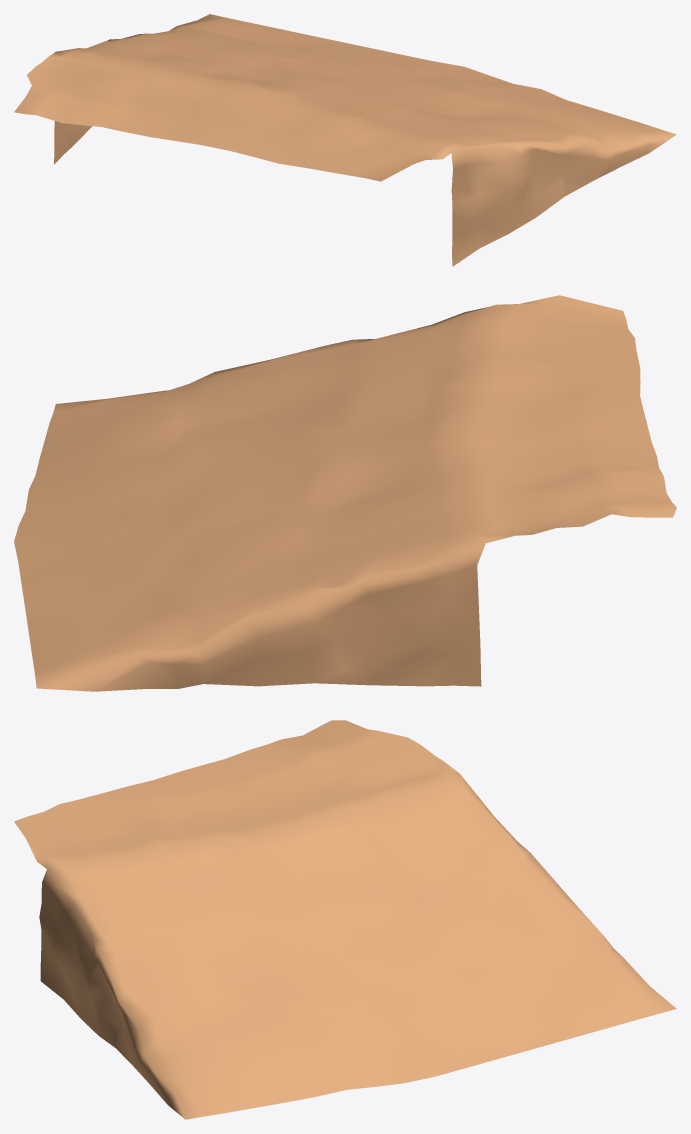
The model's file is relief_2.low.fbx.
3 renders of one model, top to bottom at view 1: azimuth 30°, elevation 25°; view 2: azimuth 150°, elevation 25°; view 3: azimuth 270°, elevation 25°, orthographic. The views are drawn at different scales.
Visible parts, largest first — view 1: relief.2.low; view 2: relief.2.low; view 3: relief.2.low.
Boxes of the visible parts, x1,y1,x2,y2 form: relief.2.low: (14, 14, 676, 266); relief.2.low: (14, 295, 676, 691); relief.2.low: (14, 720, 676, 1119).
Size of the model in its own units: 2125 by 437 by 2051.
